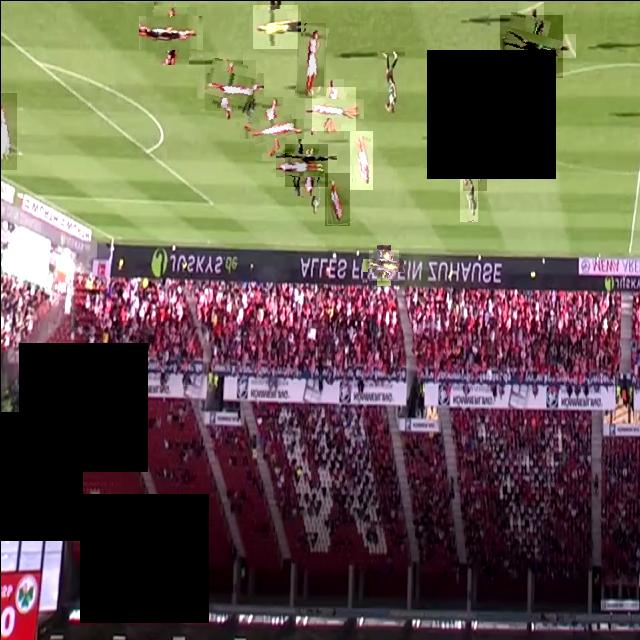goalkeeper: (0, 92, 16, 169)
referee: (252, 4, 297, 48), (368, 249, 398, 280)
soccer-player: (499, 14, 562, 77), (145, 6, 196, 58), (204, 59, 255, 110), (482, 112, 531, 162), (296, 22, 325, 97), (248, 105, 295, 151), (376, 46, 404, 118), (311, 86, 355, 130), (284, 143, 327, 186), (463, 127, 486, 190), (349, 130, 372, 189), (324, 172, 349, 225), (460, 178, 478, 221)
